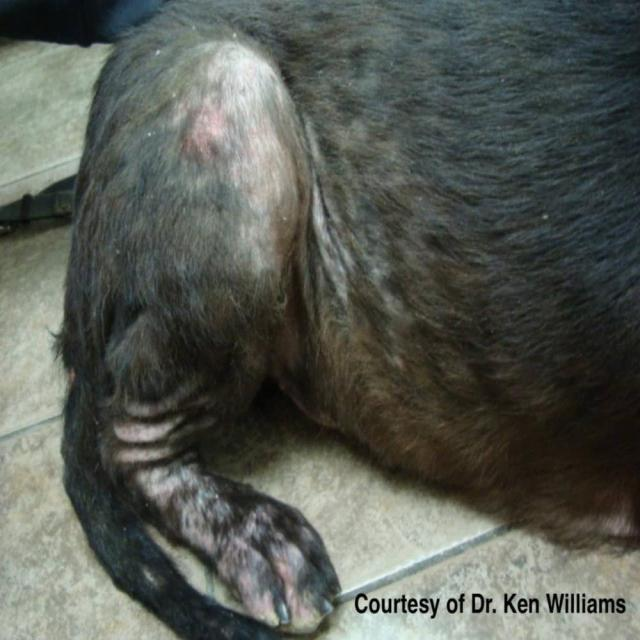allergic dermatitis: (172, 42, 318, 284)
